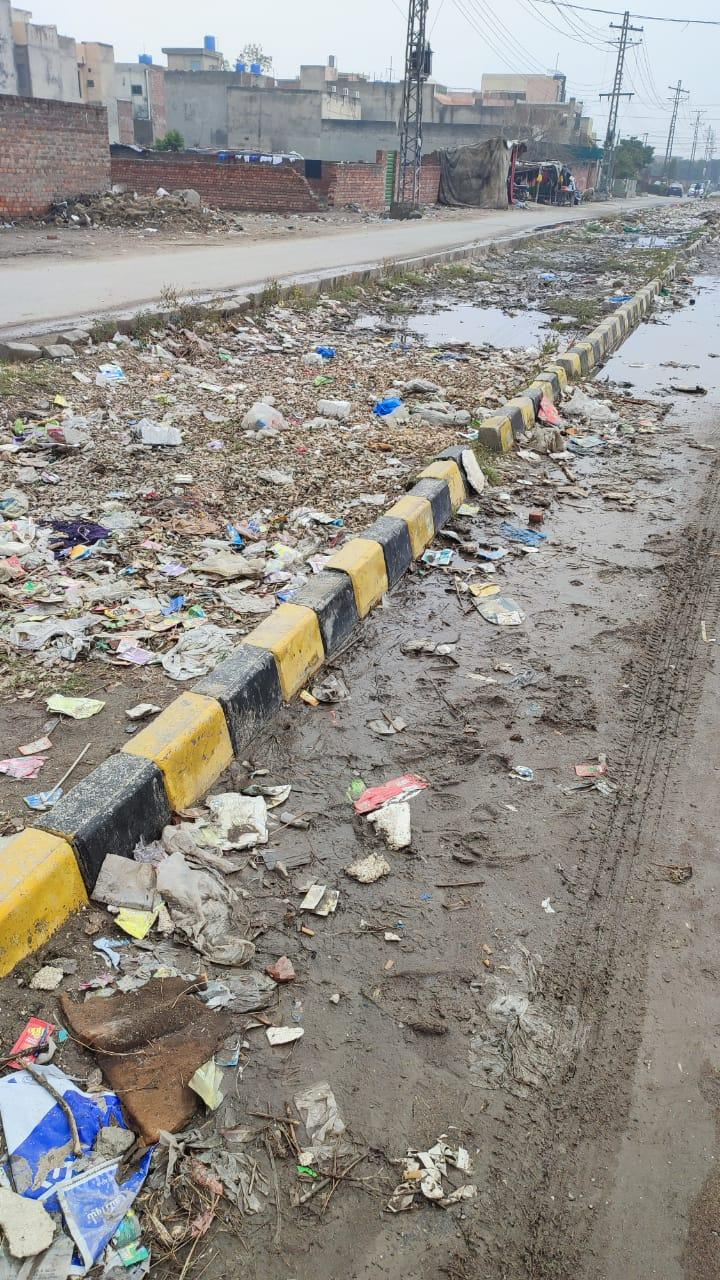garbage: (6, 311, 593, 1261)
